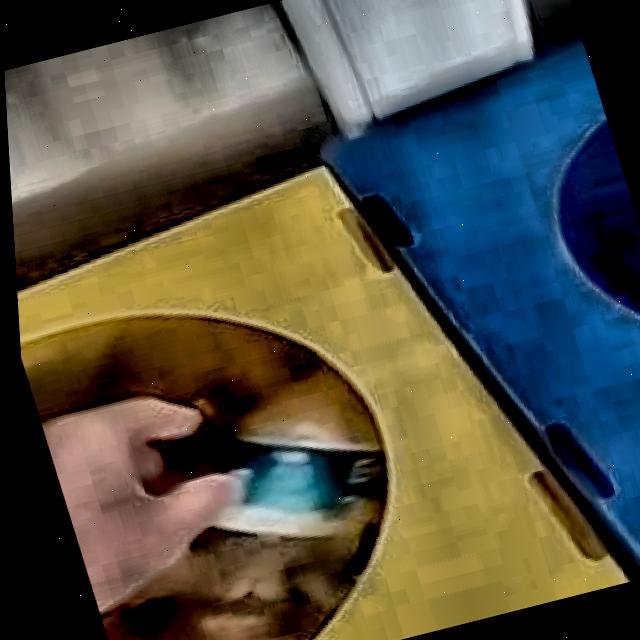plastic: (16, 315, 381, 640)
